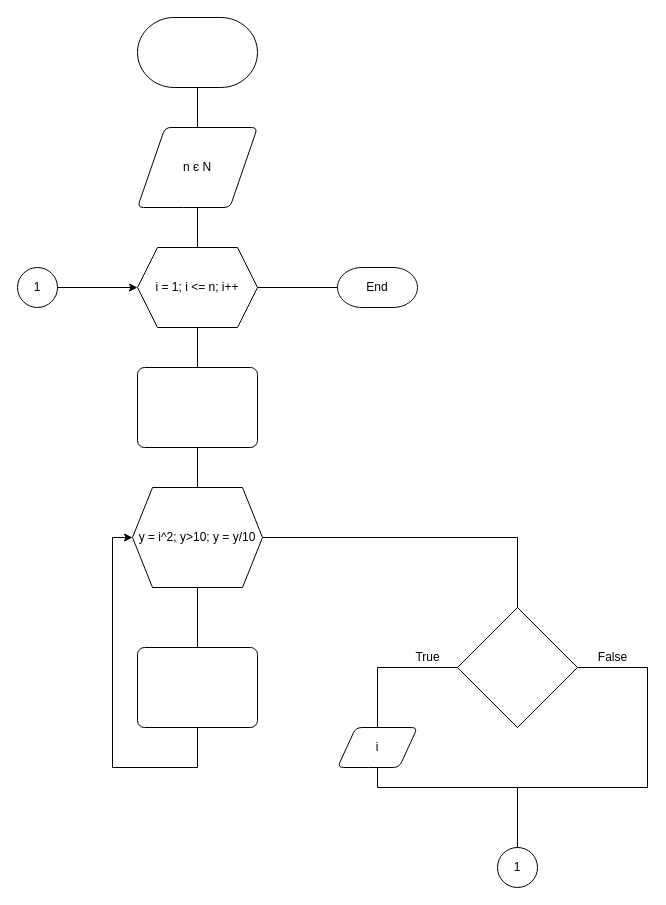
The diagram is 666 pixels wide and 905 high, and some of its shapes have lost their labels. The shapes that lost their labels are listed below. From the top down, each one's centre as x and y in pixels, then its label:
At point 197,52: "Start".
At point 197,407: "CountNumber = 0".
At point 197,687: "CountNumber = CountNumber + 1".
At point 517,667: "i = i^2 % 10^CountNumber".
